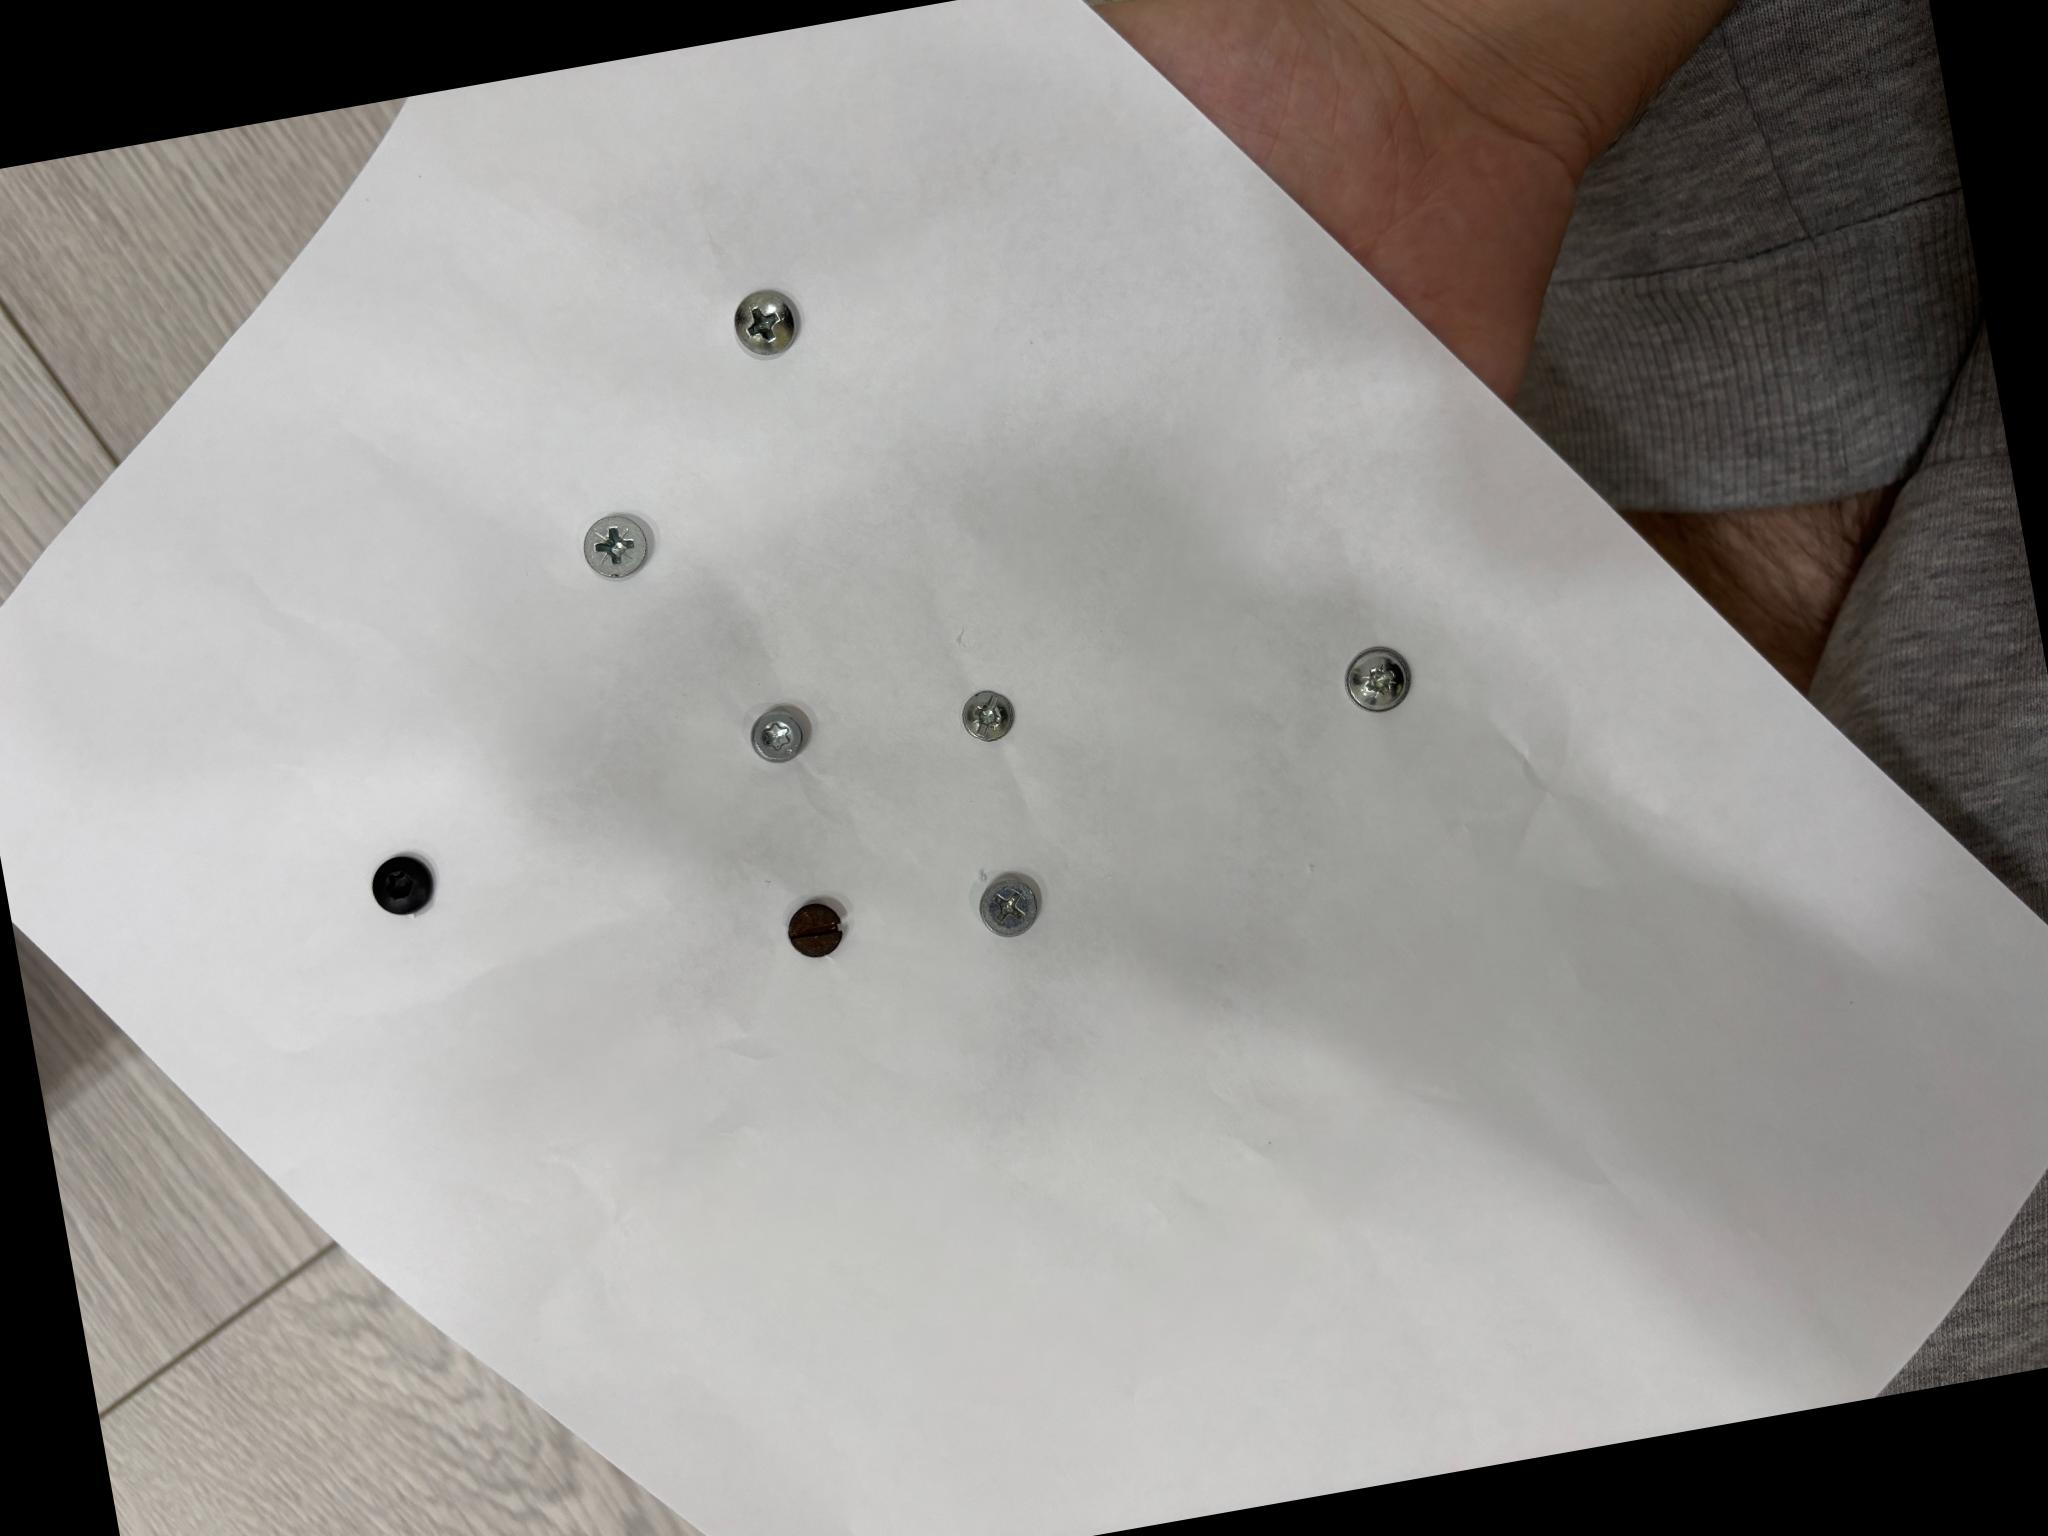H: (371, 854, 434, 915)
PH: (734, 290, 797, 358), (977, 873, 1040, 937)
PZ: (1345, 647, 1409, 712), (584, 515, 647, 578), (961, 691, 1013, 742)
SL: (787, 904, 842, 957)
T: (751, 712, 803, 762)
